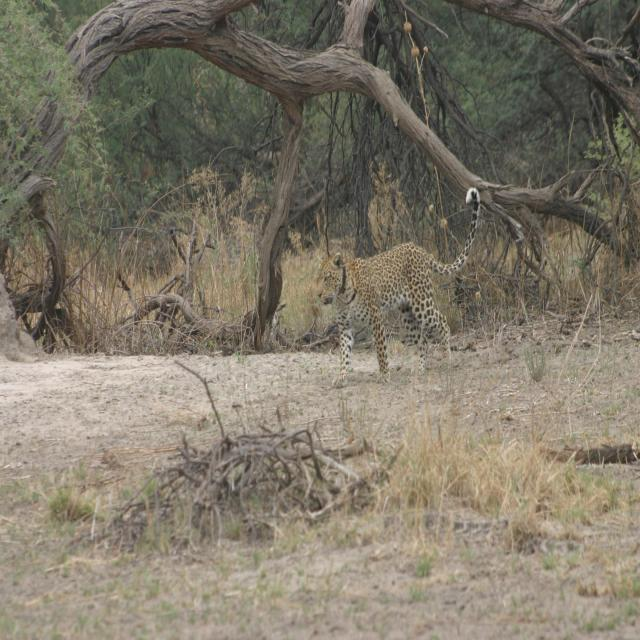Leopard: (306, 236, 463, 386)
